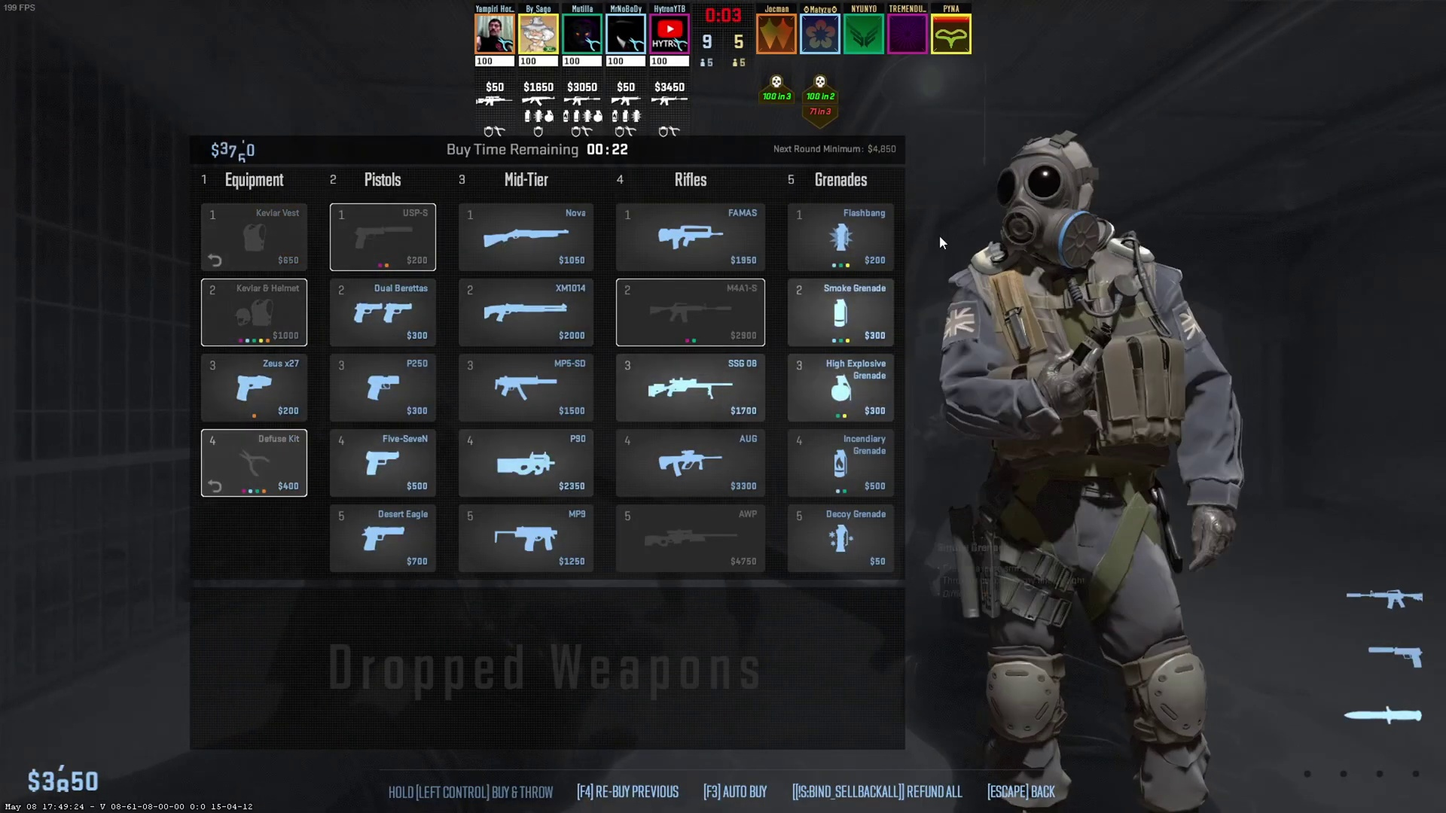CT: (962, 133, 1214, 805)
